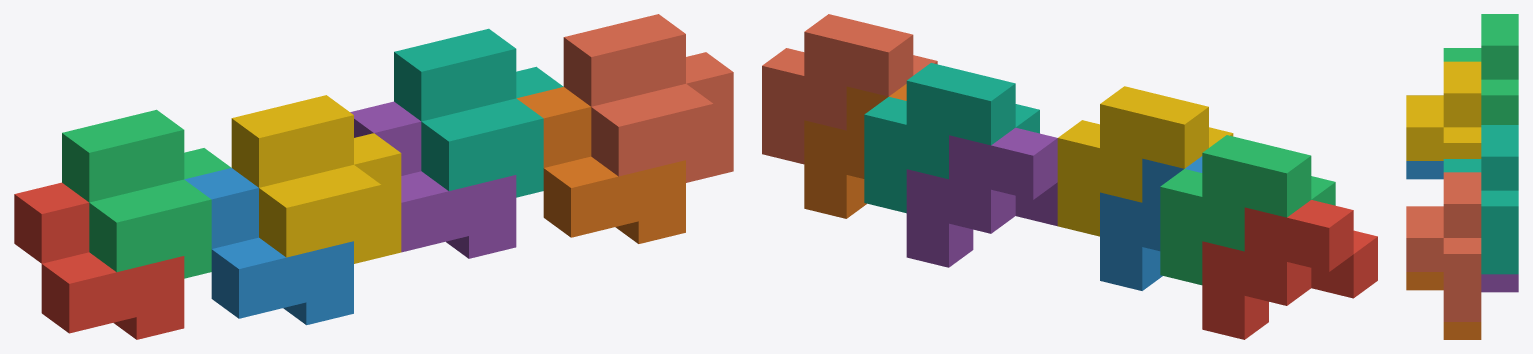
Rendered from tiling.obj.
3 views of the same model, side by side, from view 1: azimuth 30°, elevation 25°; view 2: azimuth 150°, elevation 25°; view 3: azimuth 270°, elevation 25° (orthographic). The views are drawn at different scales.
Visible parts, largest first — view 1: copy_1_domain_4, copy_1_domain_8, copy_1_domain_7, copy_1_domain_3, copy_1_domain_1, copy_1_domain_6, copy_1_domain_2, copy_1_domain_5; view 2: copy_1_domain_1, copy_1_domain_5, copy_1_domain_3, copy_1_domain_7, copy_1_domain_4, copy_1_domain_8, copy_1_domain_6, copy_1_domain_2; view 3: copy_1_domain_8, copy_1_domain_4, copy_1_domain_7, copy_1_domain_3, copy_1_domain_6, copy_1_domain_2, copy_1_domain_5.
Part boxes in pixels (x1,y1,x2,y2): copy_1_domain_4: (231,95,401,263); copy_1_domain_8: (563,14,733,182); copy_1_domain_7: (394,28,563,197); copy_1_domain_3: (62,109,231,278); copy_1_domain_1: (14,182,184,339); copy_1_domain_6: (517,87,685,243); copy_1_domain_2: (184,168,353,325); copy_1_domain_5: (350,101,516,258); copy_1_domain_1: (1202,200,1377,339); copy_1_domain_5: (906,127,1057,267); copy_1_domain_3: (1160,135,1335,285); copy_1_domain_7: (864,63,1039,213); copy_1_domain_4: (1057,86,1233,236); copy_1_domain_8: (762,14,937,164); copy_1_domain_6: (804,84,906,218); copy_1_domain_2: (1100,156,1202,290); copy_1_domain_8: (1406,172,1481,321); copy_1_domain_4: (1406,61,1481,160); copy_1_domain_7: (1443,125,1518,274); copy_1_domain_3: (1443,14,1518,124); copy_1_domain_6: (1406,272,1481,339); copy_1_domain_2: (1406,161,1443,179); copy_1_domain_5: (1481,274,1518,292).
Bounding box in the file's own units: 14 × 4 × 3.
